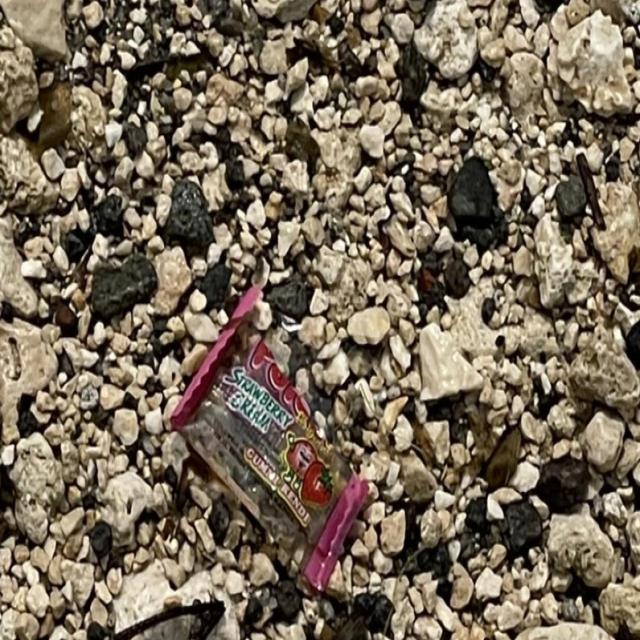plastic_waste: (167, 283, 375, 605)
